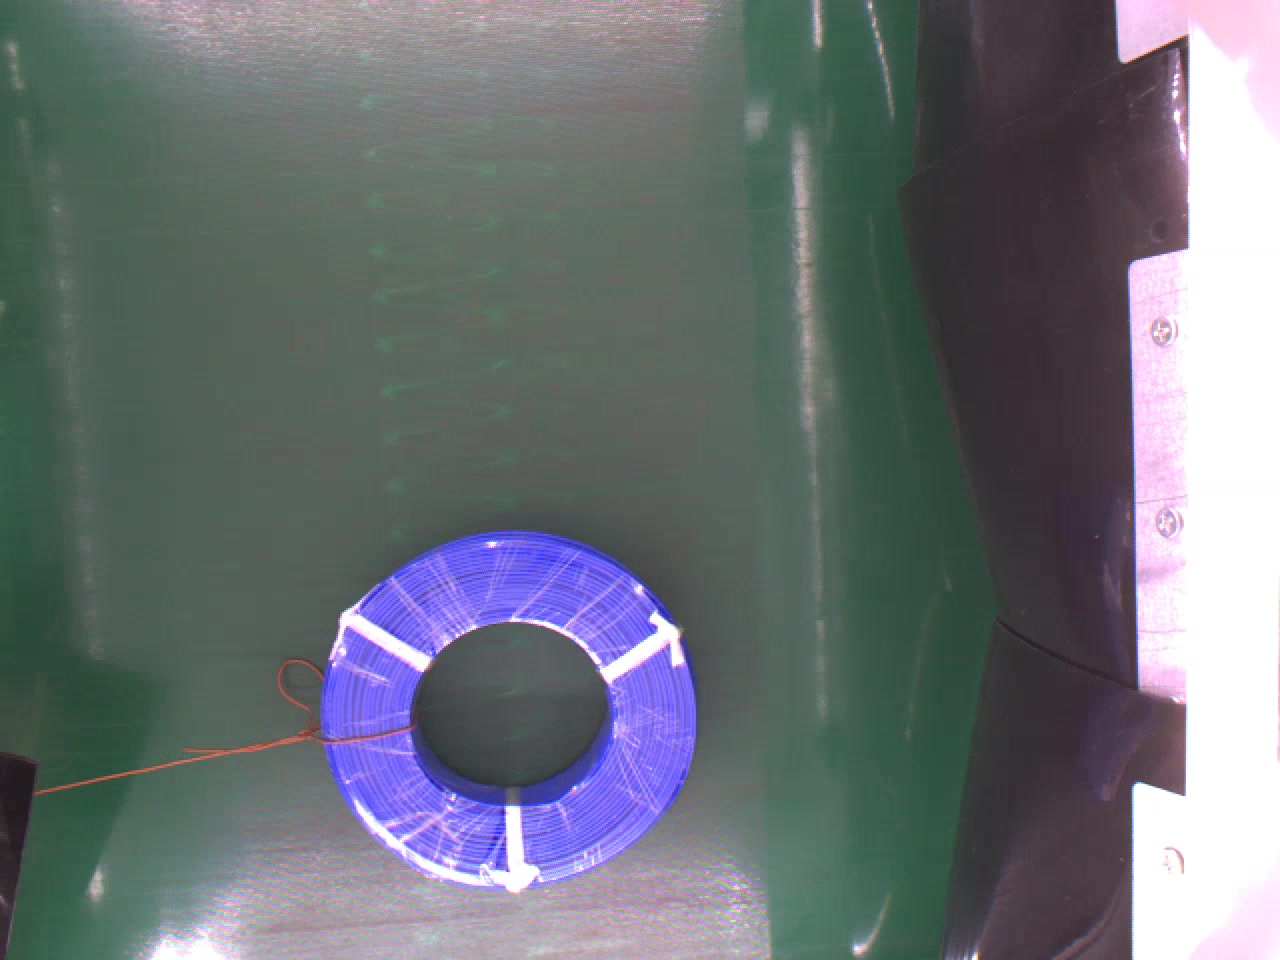blue: (321, 527, 702, 889)
